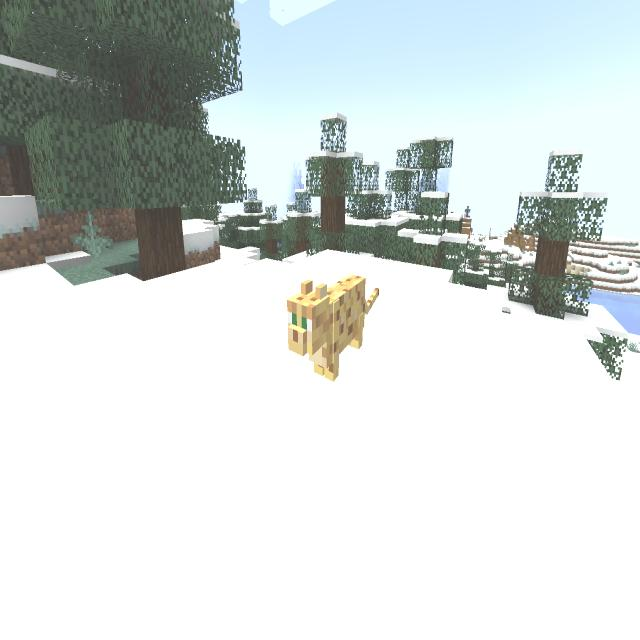Ocelot: (281, 262, 385, 398)
